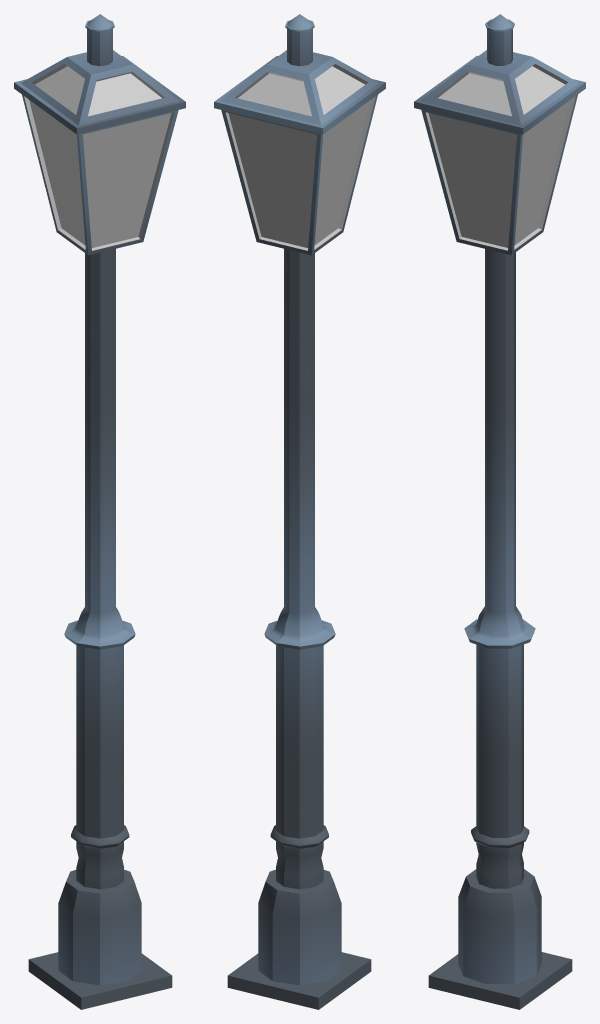
File: lamp outside.fbx
3 renders of one model, left to right at view 1: azimuth 30°, elevation 25°; view 2: azimuth 150°, elevation 25°; view 3: azimuth 330°, elevation 25°, orthographic.
Visible parts, largest first — view 1: lamp; view 2: lamp; view 3: lamp.
Part boxes in pixels (x1,y1,x2,y2): lamp: (14,14,185,1009); lamp: (214,14,385,1009); lamp: (414,14,585,1009).
Bounding box in the file's own units: 0.2411 × 2.04 × 0.2411.
